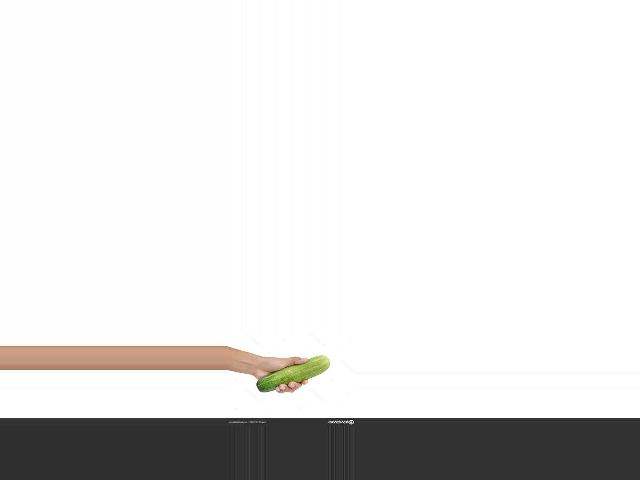cucumber: (255, 355, 329, 392)
